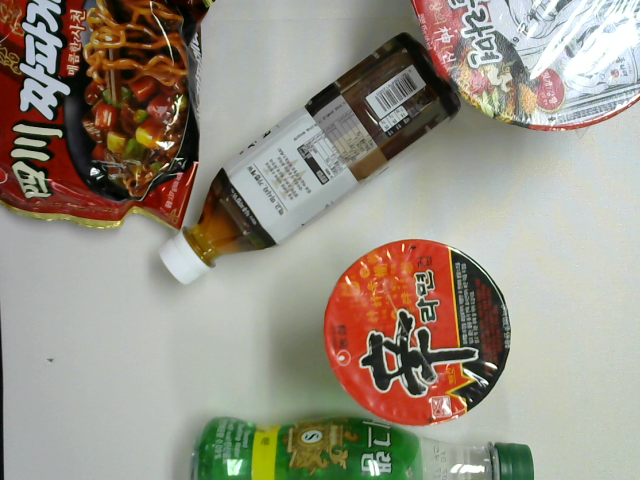Hejangpul: (406, 1, 640, 134)
Post-meal_recipe_W_tea_500ml: (158, 34, 462, 287)
Seagram_Lemon_Carbonated_Water: (187, 417, 536, 479)
Sichuan_Chapaghetti: (1, 1, 216, 234)
Sinramen_small: (321, 237, 513, 430)
